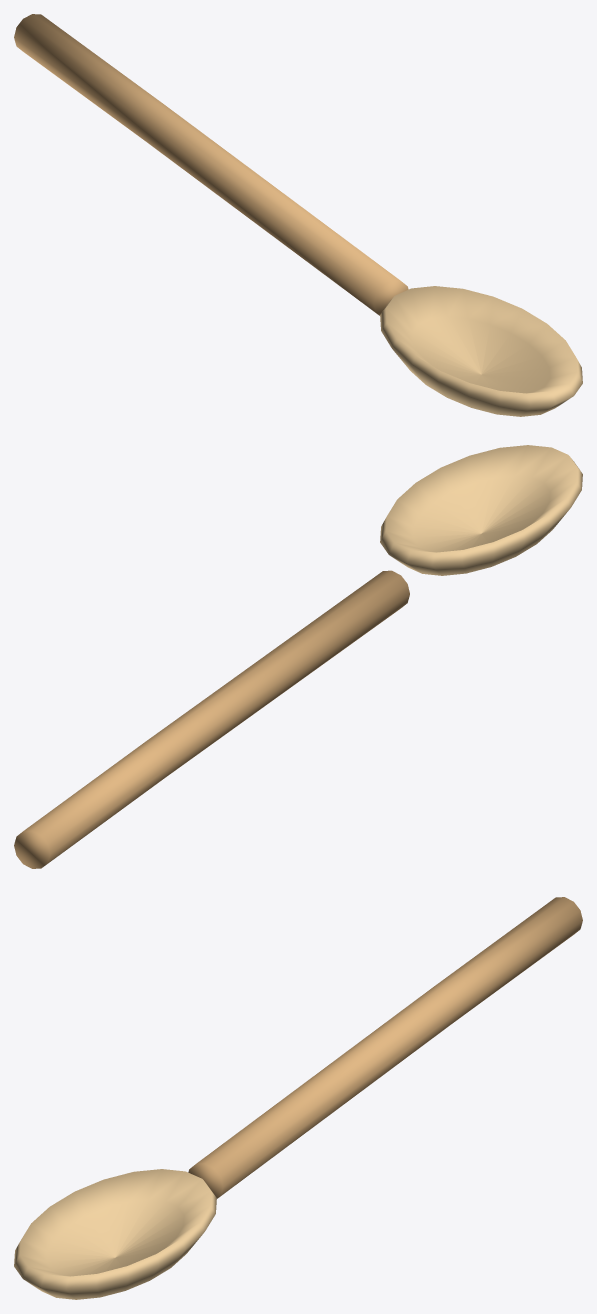
The model's file is cuillere_bois.glb.
3 renders of one model, top to bottom at view 1: azimuth 30°, elevation 25°; view 2: azimuth 150°, elevation 25°; view 3: azimuth 330°, elevation 25°, orthographic.
Parts seen in each view (by area): view 1: cuillere_bois; view 2: cuillere_bois; view 3: cuillere_bois.
Boxes of the visible parts, left/top/right/bottom form: cuillere_bois: left=14, top=14, right=582, bottom=416; cuillere_bois: left=14, top=445, right=582, bottom=868; cuillere_bois: left=14, top=897, right=582, bottom=1299.
Bounding box in the file's own units: 0.0462 × 0.015 × 0.3.
